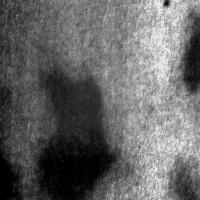patches: (17, 0, 143, 108), (16, 46, 114, 144), (44, 73, 106, 197), (72, 62, 158, 148), (165, 155, 199, 200), (183, 14, 200, 92), (1, 155, 22, 200)
